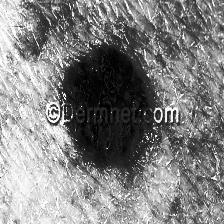Benign Marking or Mole: (59, 45, 152, 169)
